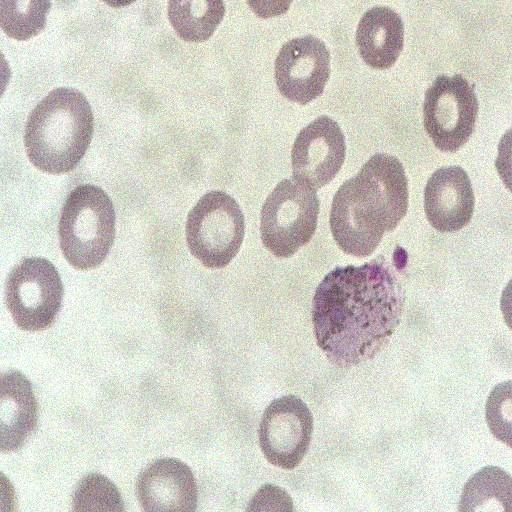Infected: (313, 255, 409, 371)
Uninfected: (21, 85, 93, 176), (57, 182, 116, 271), (187, 186, 248, 271), (4, 252, 66, 333), (261, 173, 317, 262), (273, 30, 333, 109), (331, 172, 388, 255), (421, 75, 478, 153), (357, 155, 412, 233), (259, 395, 316, 469), (293, 115, 344, 191), (423, 163, 474, 235), (137, 455, 199, 512), (356, 6, 404, 72)
